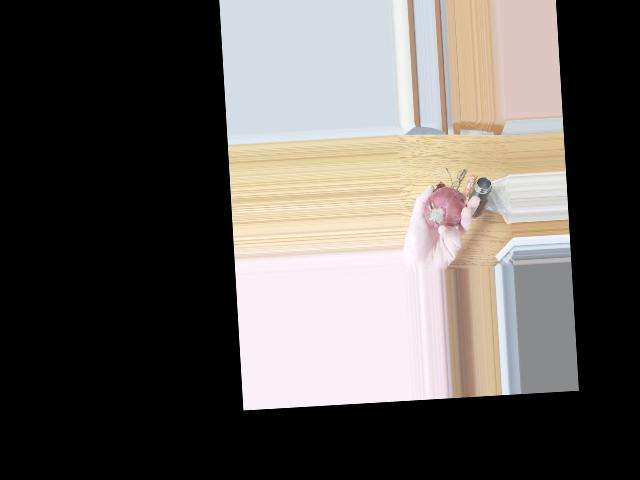onion: (421, 186, 465, 231)
